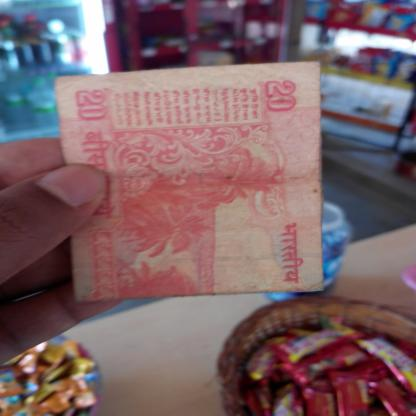Old20Back: (55, 60, 326, 302)
